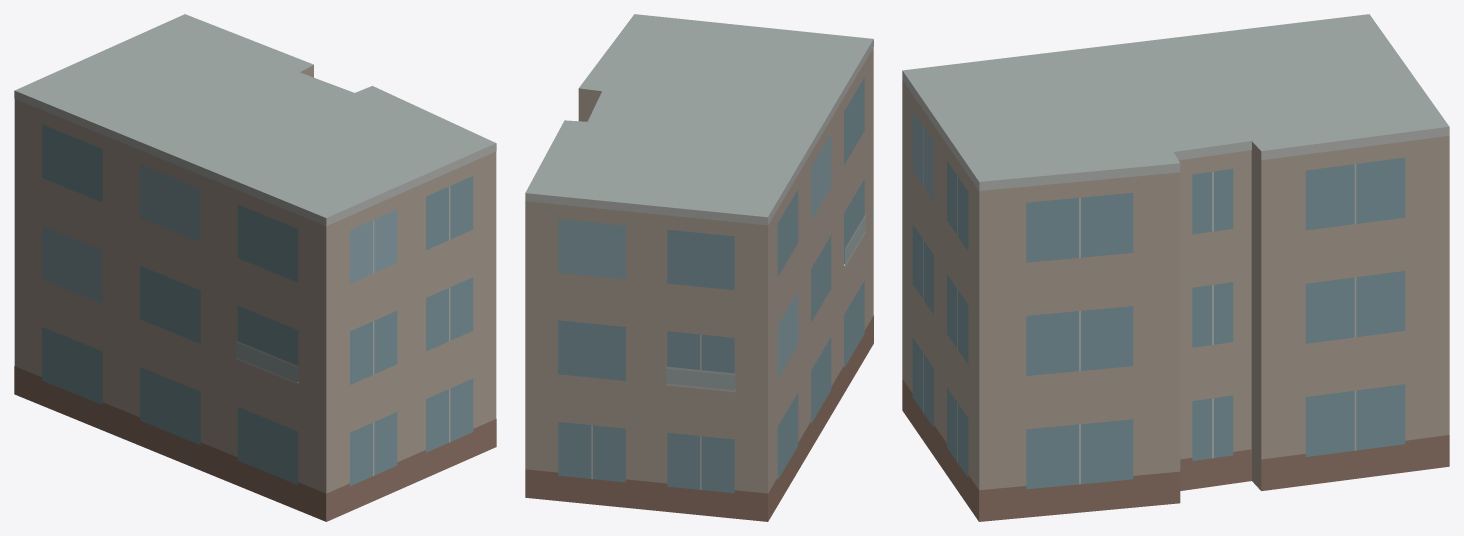
File: survey-upis-32616401.glb
3 views of the same model, side by side, from view 1: azimuth 30°, elevation 25°; view 2: azimuth 150°, elevation 25°; view 3: azimuth 270°, elevation 25° (orthographic). The views are drawn at different scales.
Parts seen in each view (by area): view 1: survey-upis-32616401.tmp; view 2: survey-upis-32616401.tmp; view 3: survey-upis-32616401.tmp.
Boxes of the visible parts, x1,y1,x2,y2 form: survey-upis-32616401.tmp: (14, 14, 496, 521); survey-upis-32616401.tmp: (525, 14, 873, 521); survey-upis-32616401.tmp: (902, 14, 1449, 521).
Size of the model in its own units: 9.71 by 9.15 by 13.36.
